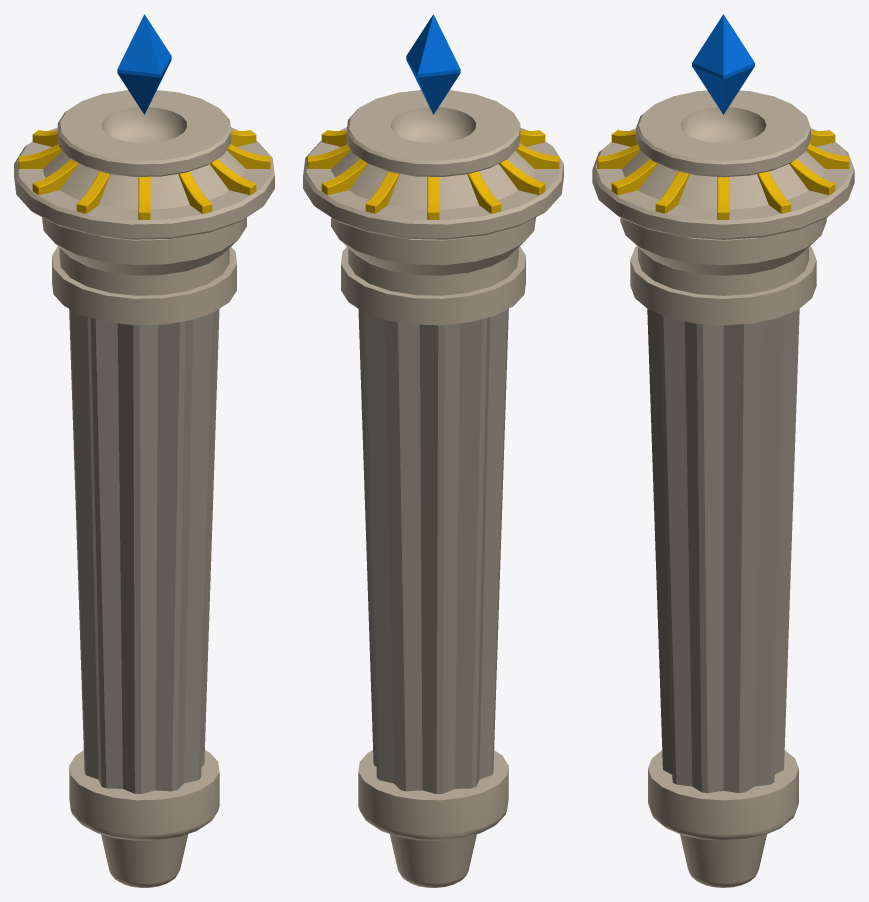
Rendered from mesh_pillar_02.fbx.
3 renders of one model, left to right at view 1: azimuth 30°, elevation 25°; view 2: azimuth 150°, elevation 25°; view 3: azimuth 270°, elevation 25°, orthographic.
Visible parts, largest first — view 1: mesh_pillar_02; view 2: mesh_pillar_02; view 3: mesh_pillar_02.
Boxes of the visible parts, <box> form: mesh_pillar_02: <box>14,14,274,887</box>; mesh_pillar_02: <box>303,14,563,887</box>; mesh_pillar_02: <box>592,14,854,887</box>.
Bounding box in the file's own units: 0.0712 × 0.2587 × 0.0712.
